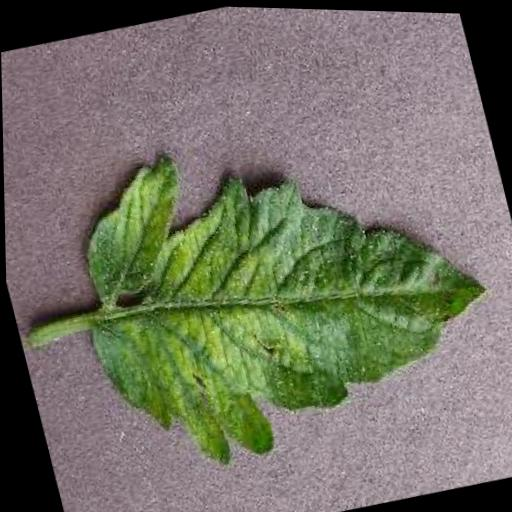Mosaic Virus: (48, 81, 512, 492)
